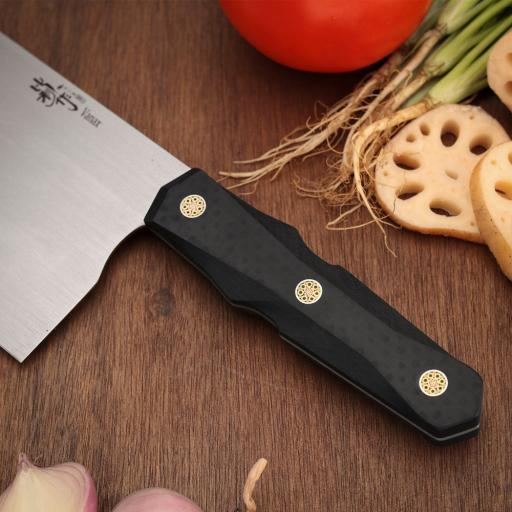knife: (0, 31, 501, 461)
